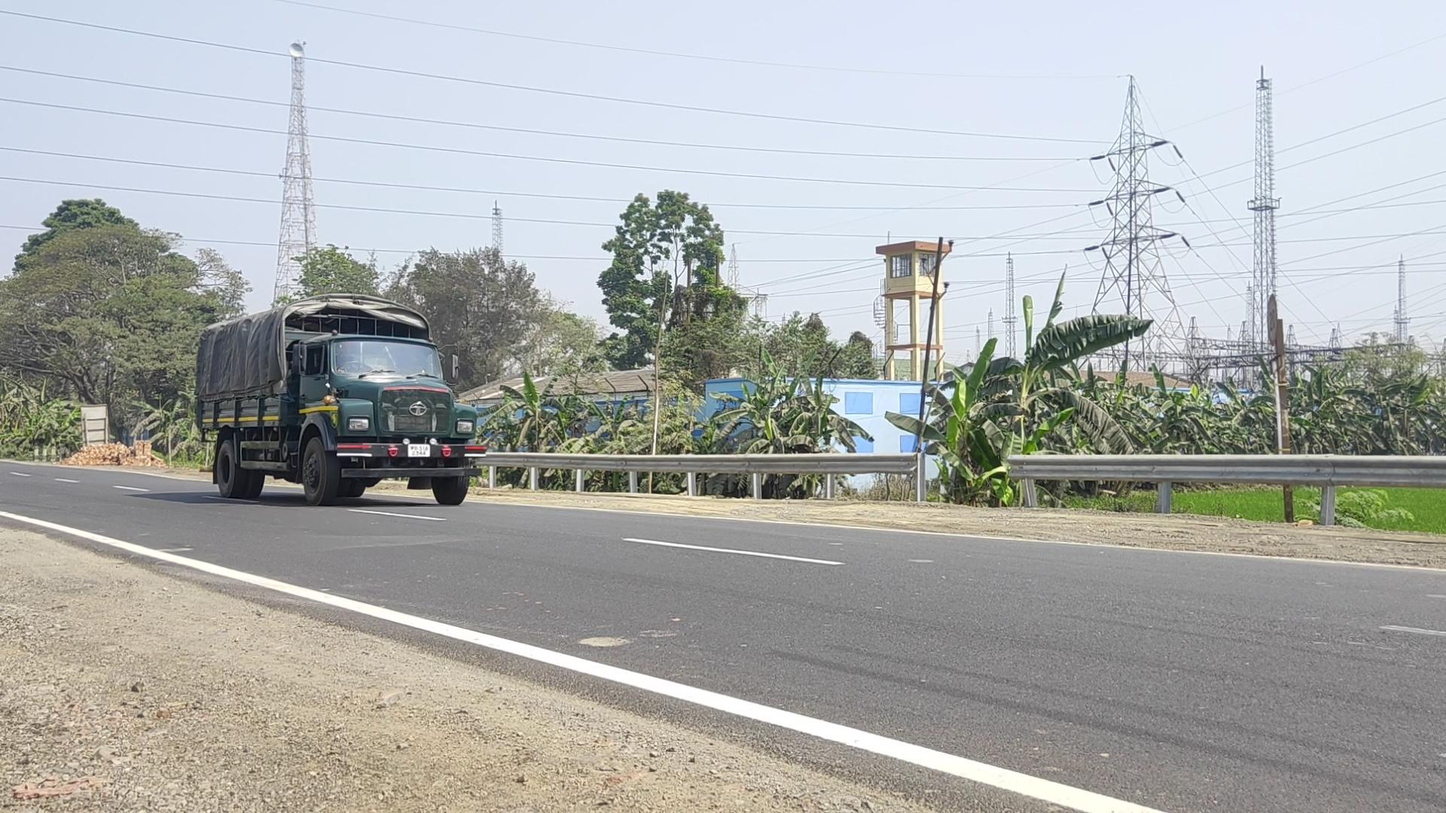truck: (194, 292, 487, 507)
